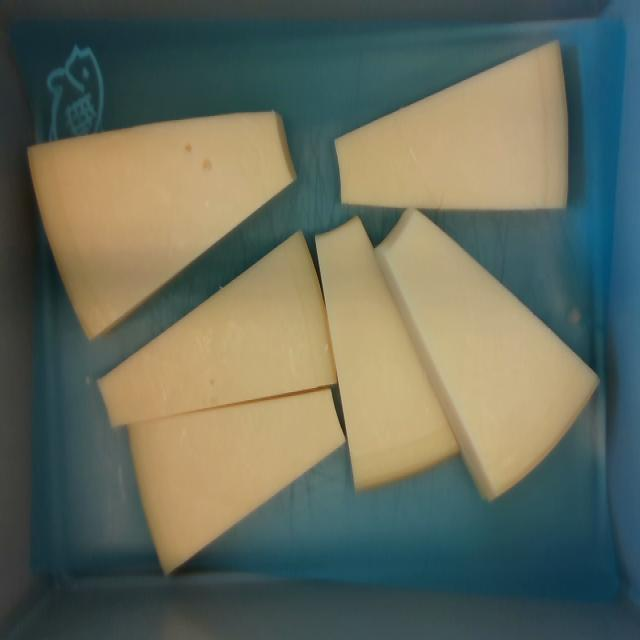cheese: (385, 207, 600, 497), (31, 112, 293, 337), (96, 233, 337, 426), (129, 389, 346, 572), (336, 43, 567, 208), (316, 219, 455, 485)
